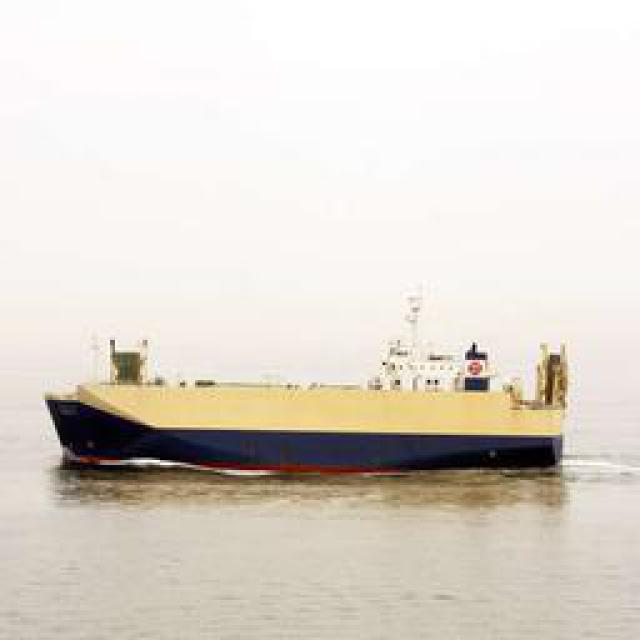Ship: (51, 304, 584, 479)
